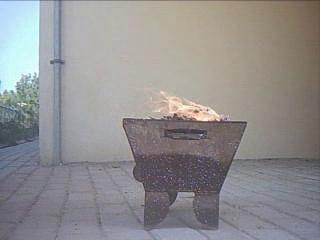fire: (137, 83, 228, 121)
